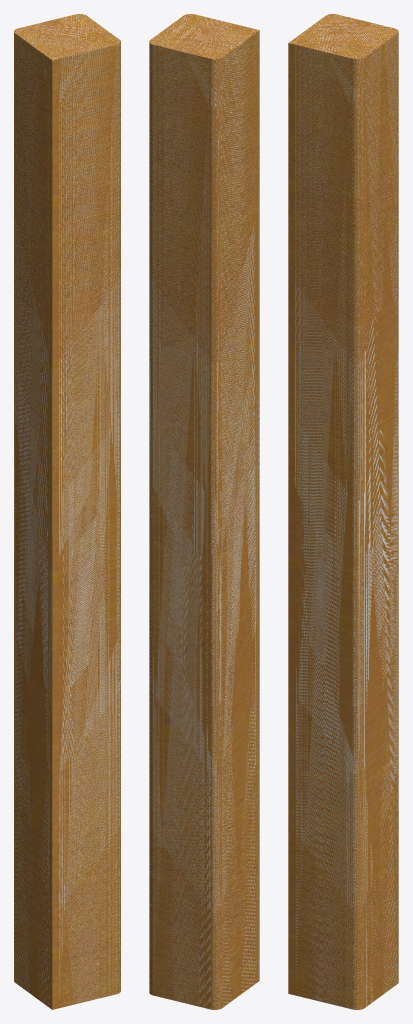
Rendered from original-19.obj.
3 renders of one model, left to right at view 1: azimuth 30°, elevation 25°; view 2: azimuth 150°, elevation 25°; view 3: azimuth 330°, elevation 25°, orthographic.
Visible parts, largest first — view 1: End_Table_Leg__25_1_4_1/End_Table_Leg__25_1_4_/mesh25/mesh25-geo; view 2: End_Table_Leg__25_1_4_1/End_Table_Leg__25_1_4_/mesh25/mesh25-geo; view 3: End_Table_Leg__25_1_4_1/End_Table_Leg__25_1_4_/mesh25/mesh25-geo.
Boxes of the visible parts, x1,y1,x2,y2 form: End_Table_Leg__25_1_4_1/End_Table_Leg__25_1_4_/mesh25/mesh25-geo: (14, 14, 120, 1009); End_Table_Leg__25_1_4_1/End_Table_Leg__25_1_4_/mesh25/mesh25-geo: (149, 14, 259, 1009); End_Table_Leg__25_1_4_1/End_Table_Leg__25_1_4_/mesh25/mesh25-geo: (288, 14, 398, 1009).
Bounding box in the file's own units: 0.0923 × 1.16 × 0.0922.
